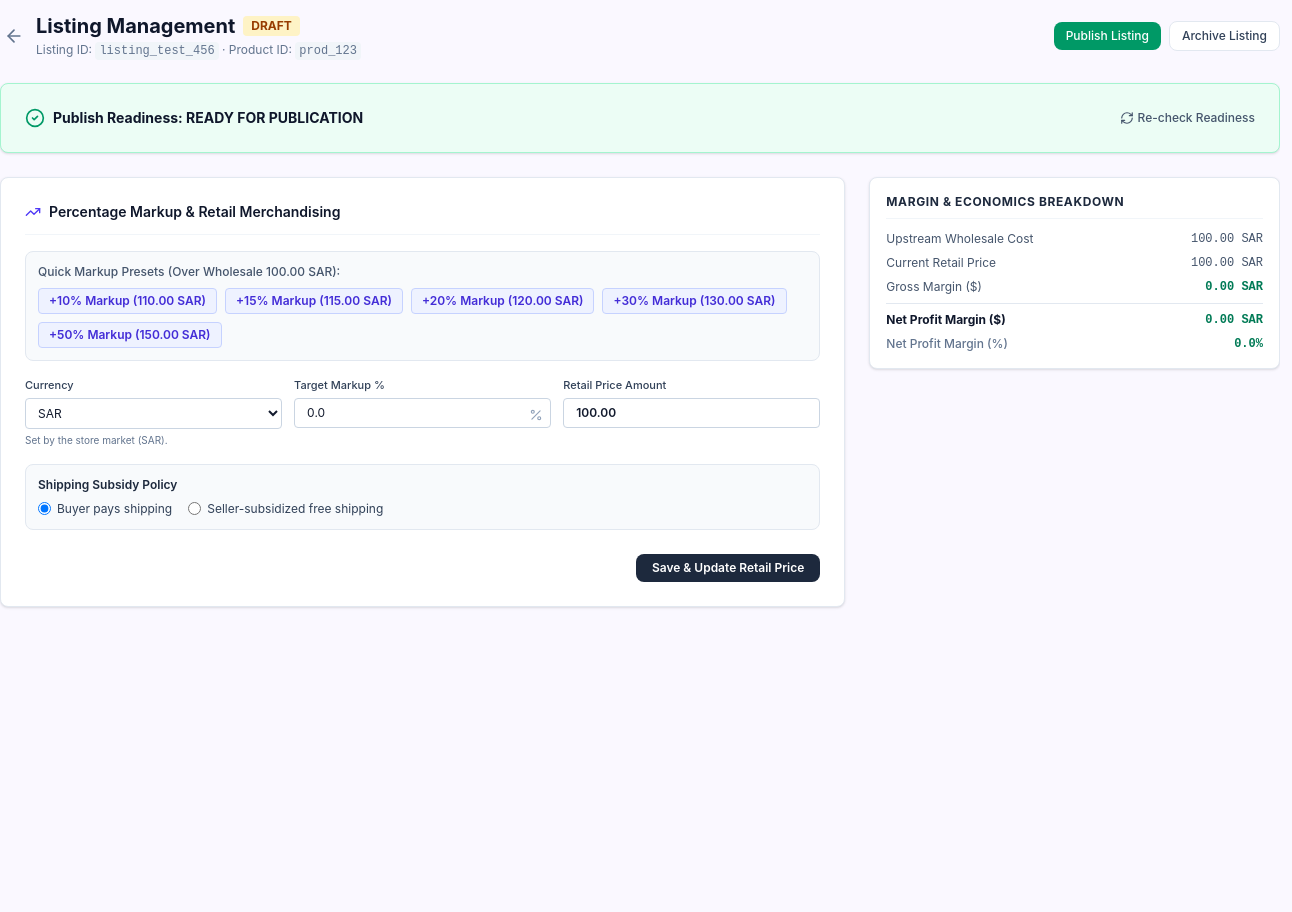
Test: Margin Guardrails & Atomic Imports (T035-T038) › Listing Detail Page Margin Guardrail & Owner Override › displays error notification when backend rejects with unsafe_margin or non-owner forbidden
The image size is (1292, 912).
# Submit price update
Click the button "Save & Update Retail Price" at point(728, 568), box top-left (636, 554), bottom-right (820, 582)
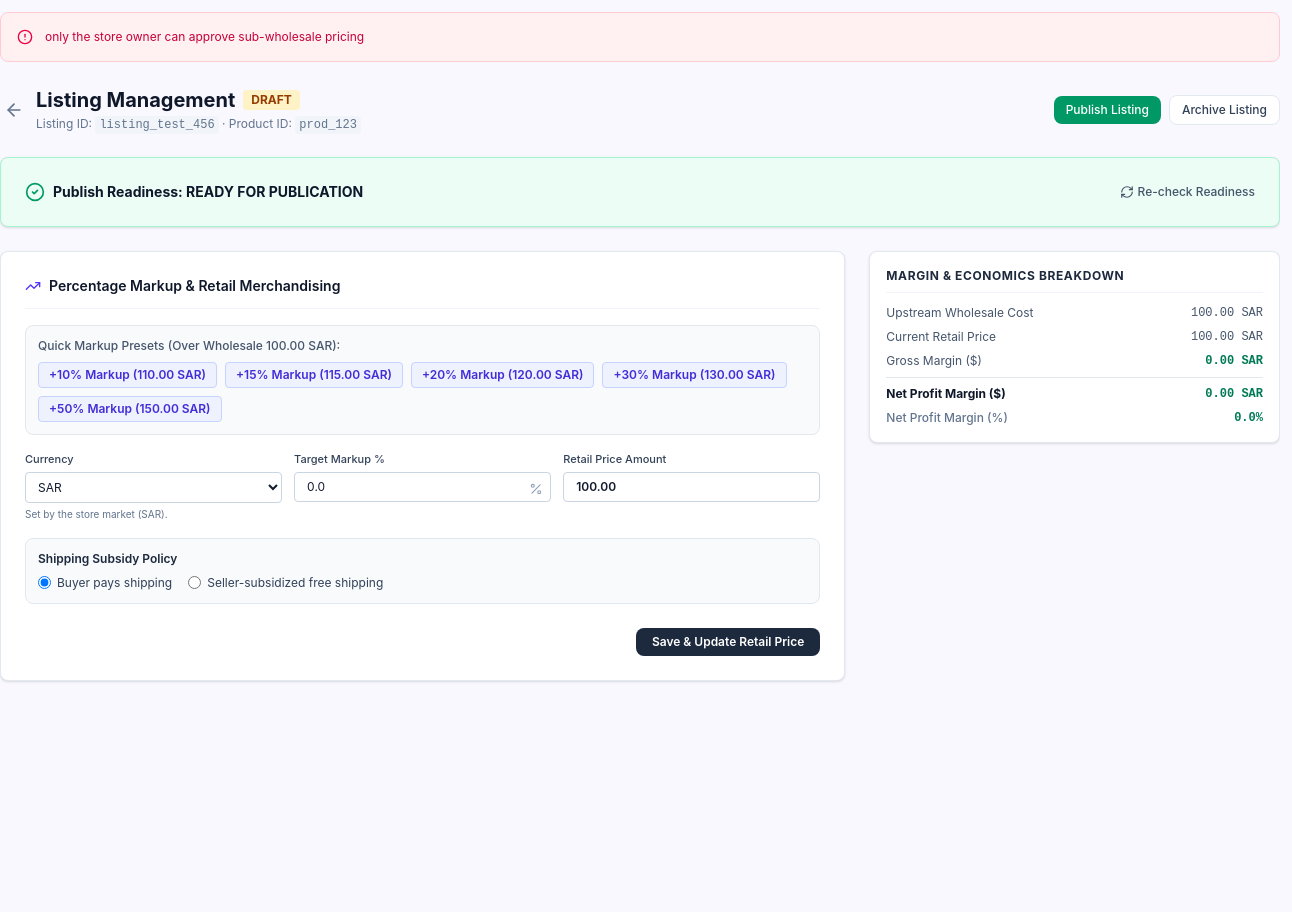
Check: the text "only the store owner can approve sub-wholesale pricing" is shown, box top-left (45, 29), bottom-right (364, 45)
